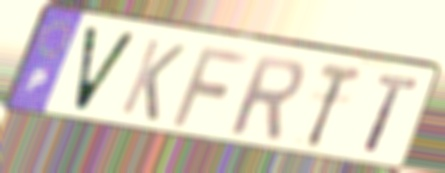F: (169, 42, 253, 130)
K: (116, 36, 189, 125)
R: (227, 51, 308, 142)
T: (302, 60, 367, 150), (360, 71, 423, 158)
V: (72, 22, 141, 117)
